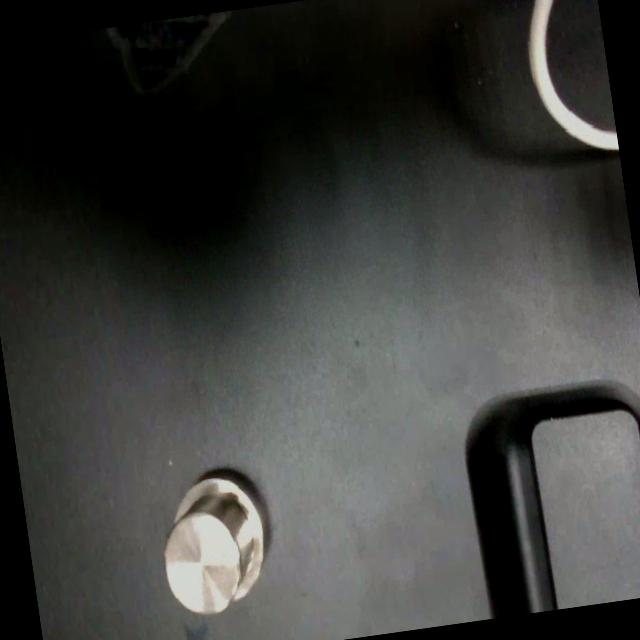sensor: (151, 468, 275, 620)
